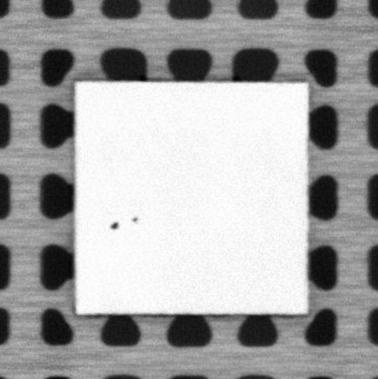DIE_INK: (109, 221, 122, 231), (130, 213, 140, 224)
